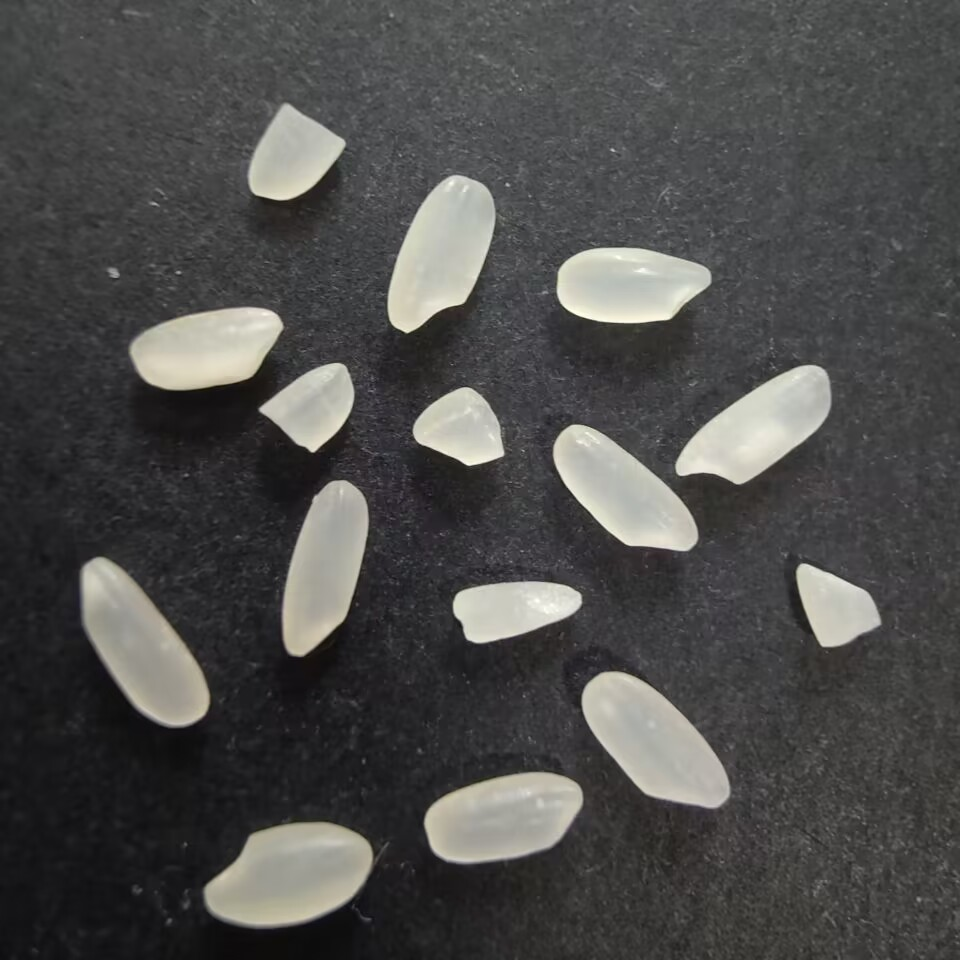broken: (241, 98, 348, 202), (447, 577, 591, 648), (255, 358, 357, 457), (793, 557, 885, 654), (406, 384, 508, 468)
rice: (77, 551, 213, 730), (577, 664, 734, 816), (669, 358, 835, 488), (194, 815, 377, 928), (551, 422, 700, 557), (383, 170, 502, 338), (278, 474, 376, 660), (418, 765, 588, 867), (121, 302, 287, 393), (553, 239, 718, 325)
